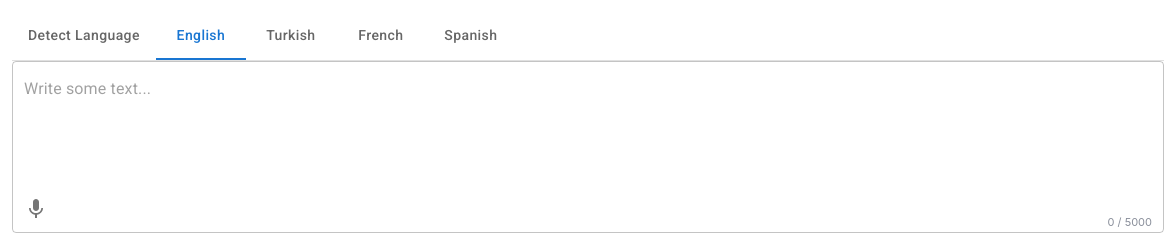
Test: TranslateInput › should disabled mic button when auto detection
This screenshot has width=1164, height=250.
Click the tab "Detect Language": (84, 36) [12, 12, 156, 60]
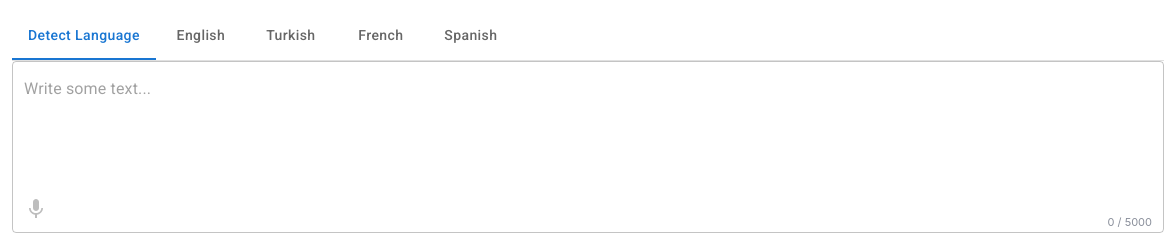
Expected: the button with test id "mic-icon" is disabled, [16, 189, 56, 229]
Click the tab "Turkish": (291, 36) [246, 12, 336, 60]
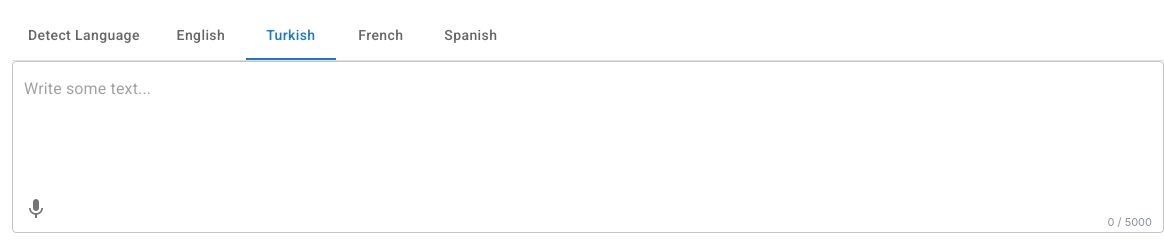
Expected: the button with test id "mic-icon" is enabled, [16, 189, 56, 229]
